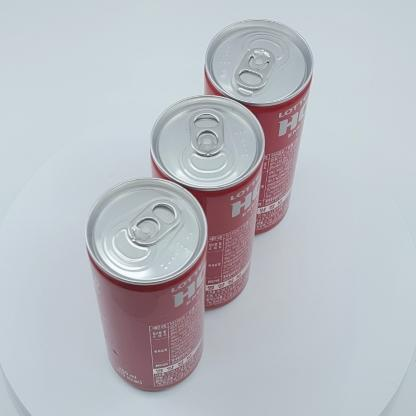-------250ML: (85, 177, 208, 390)
